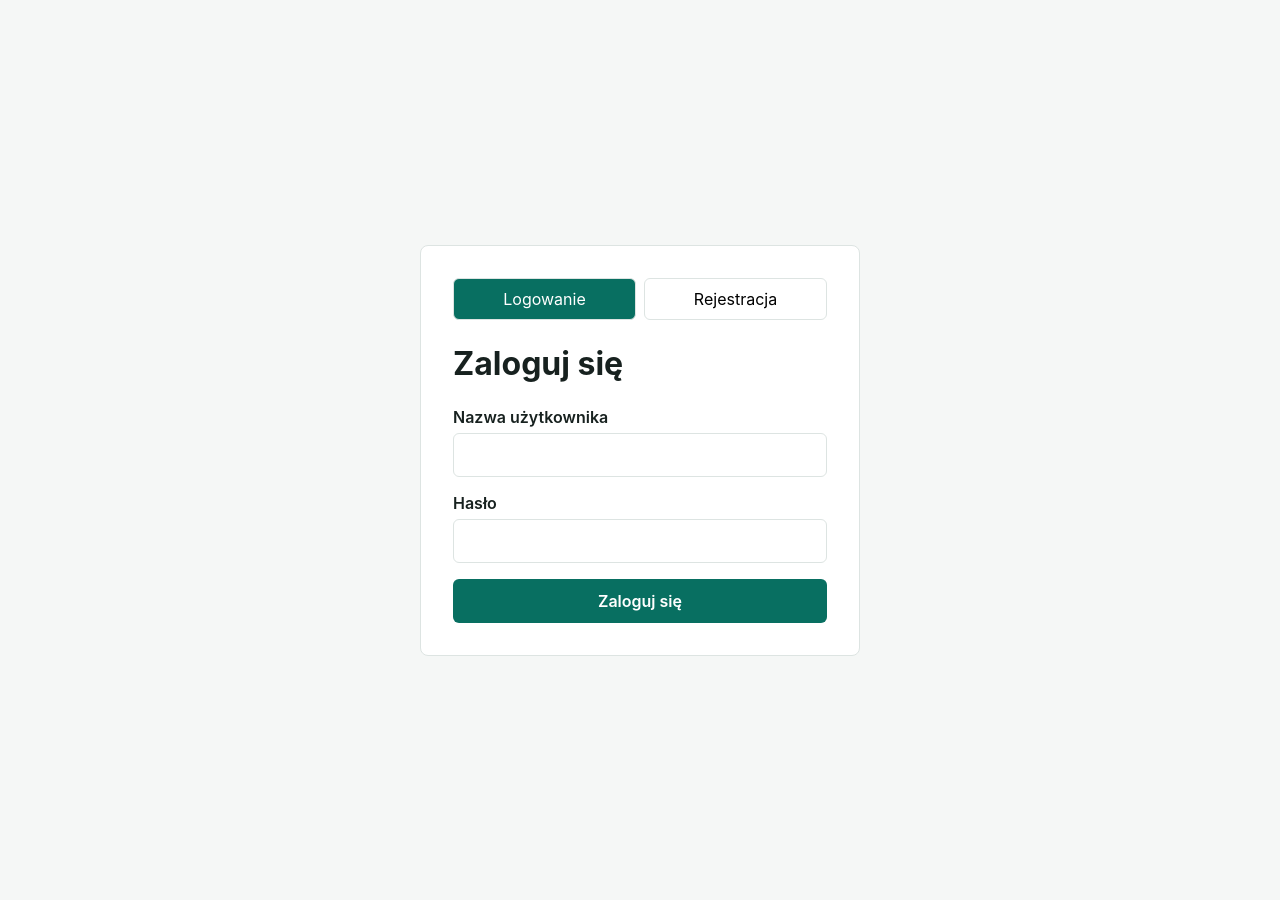
Test: App › loguje użytkownika i pokazuje wspólny układ aplikacji
The width and height of the screenshot is (1280, 900).
In the field labelled "Nazwa użytkownika": (640, 454) [453, 432, 827, 476], type "jan"
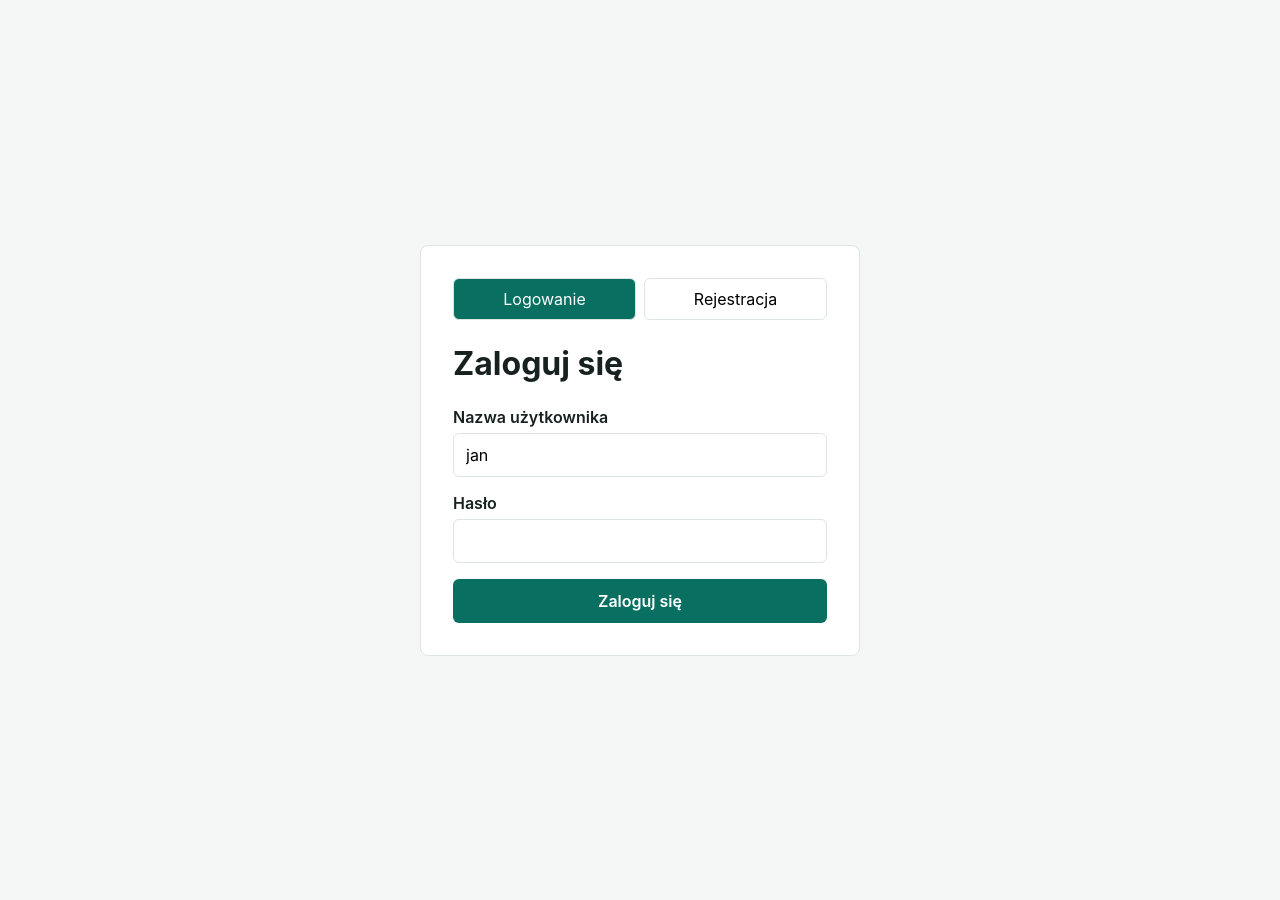
In the password field labelled "Hasło": (640, 540) [453, 518, 827, 562], type "haslo123"
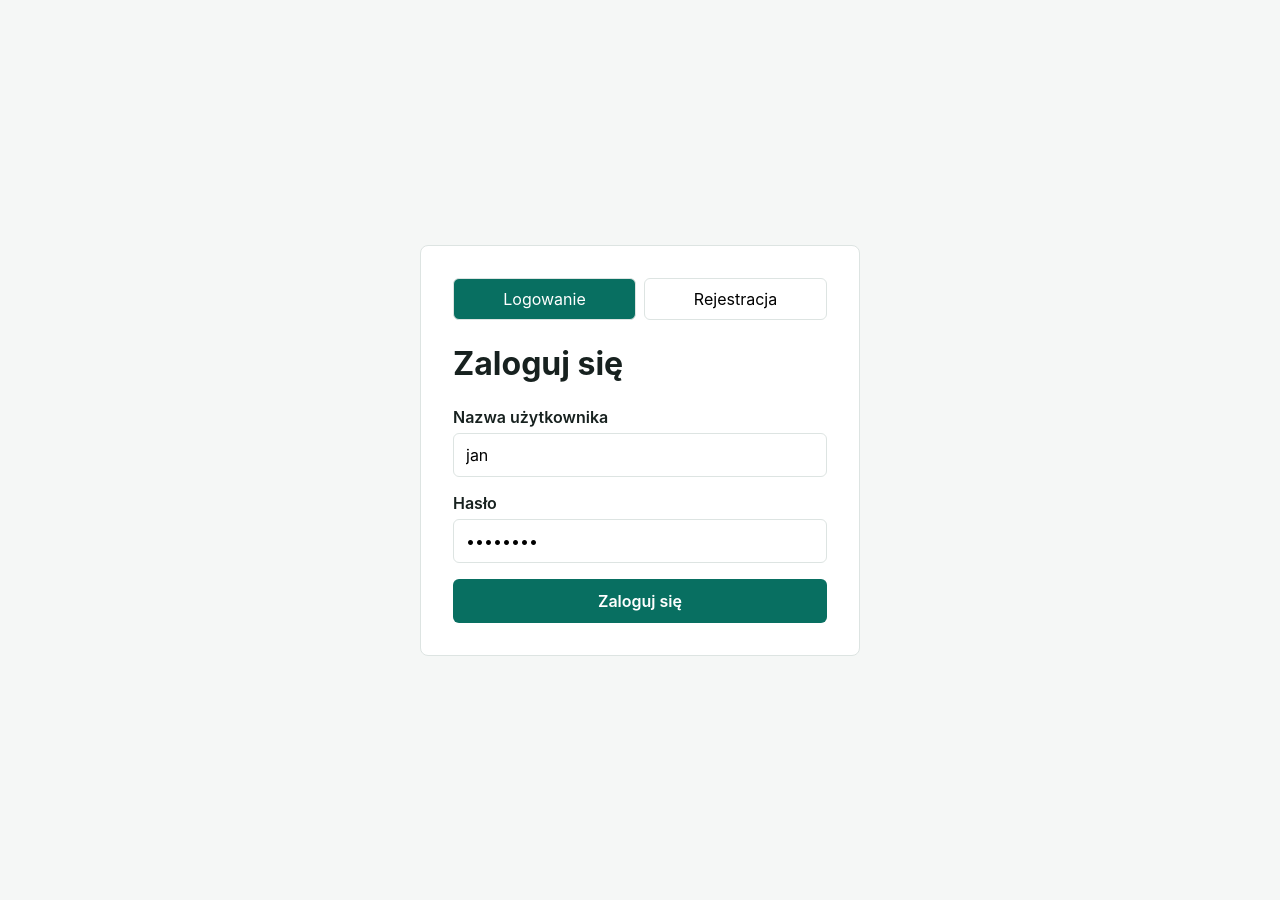
Click the button "Zaloguj się": (640, 600) [453, 578, 827, 622]
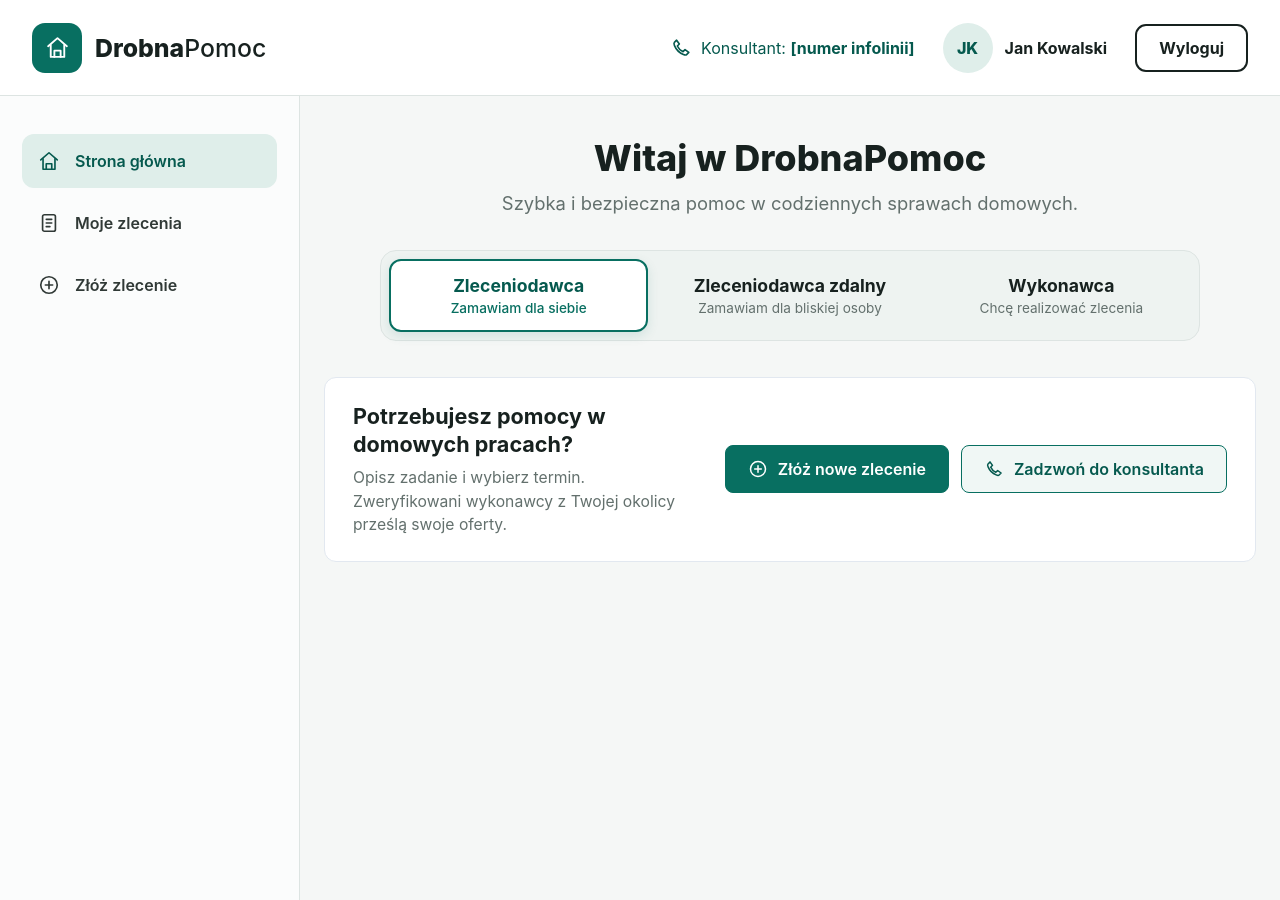
Now the text "Jan Kowalski" is shown, box [1004, 38, 1107, 58]
Now the navigation bar named "Menu główne" is shown, box [22, 134, 277, 312]
